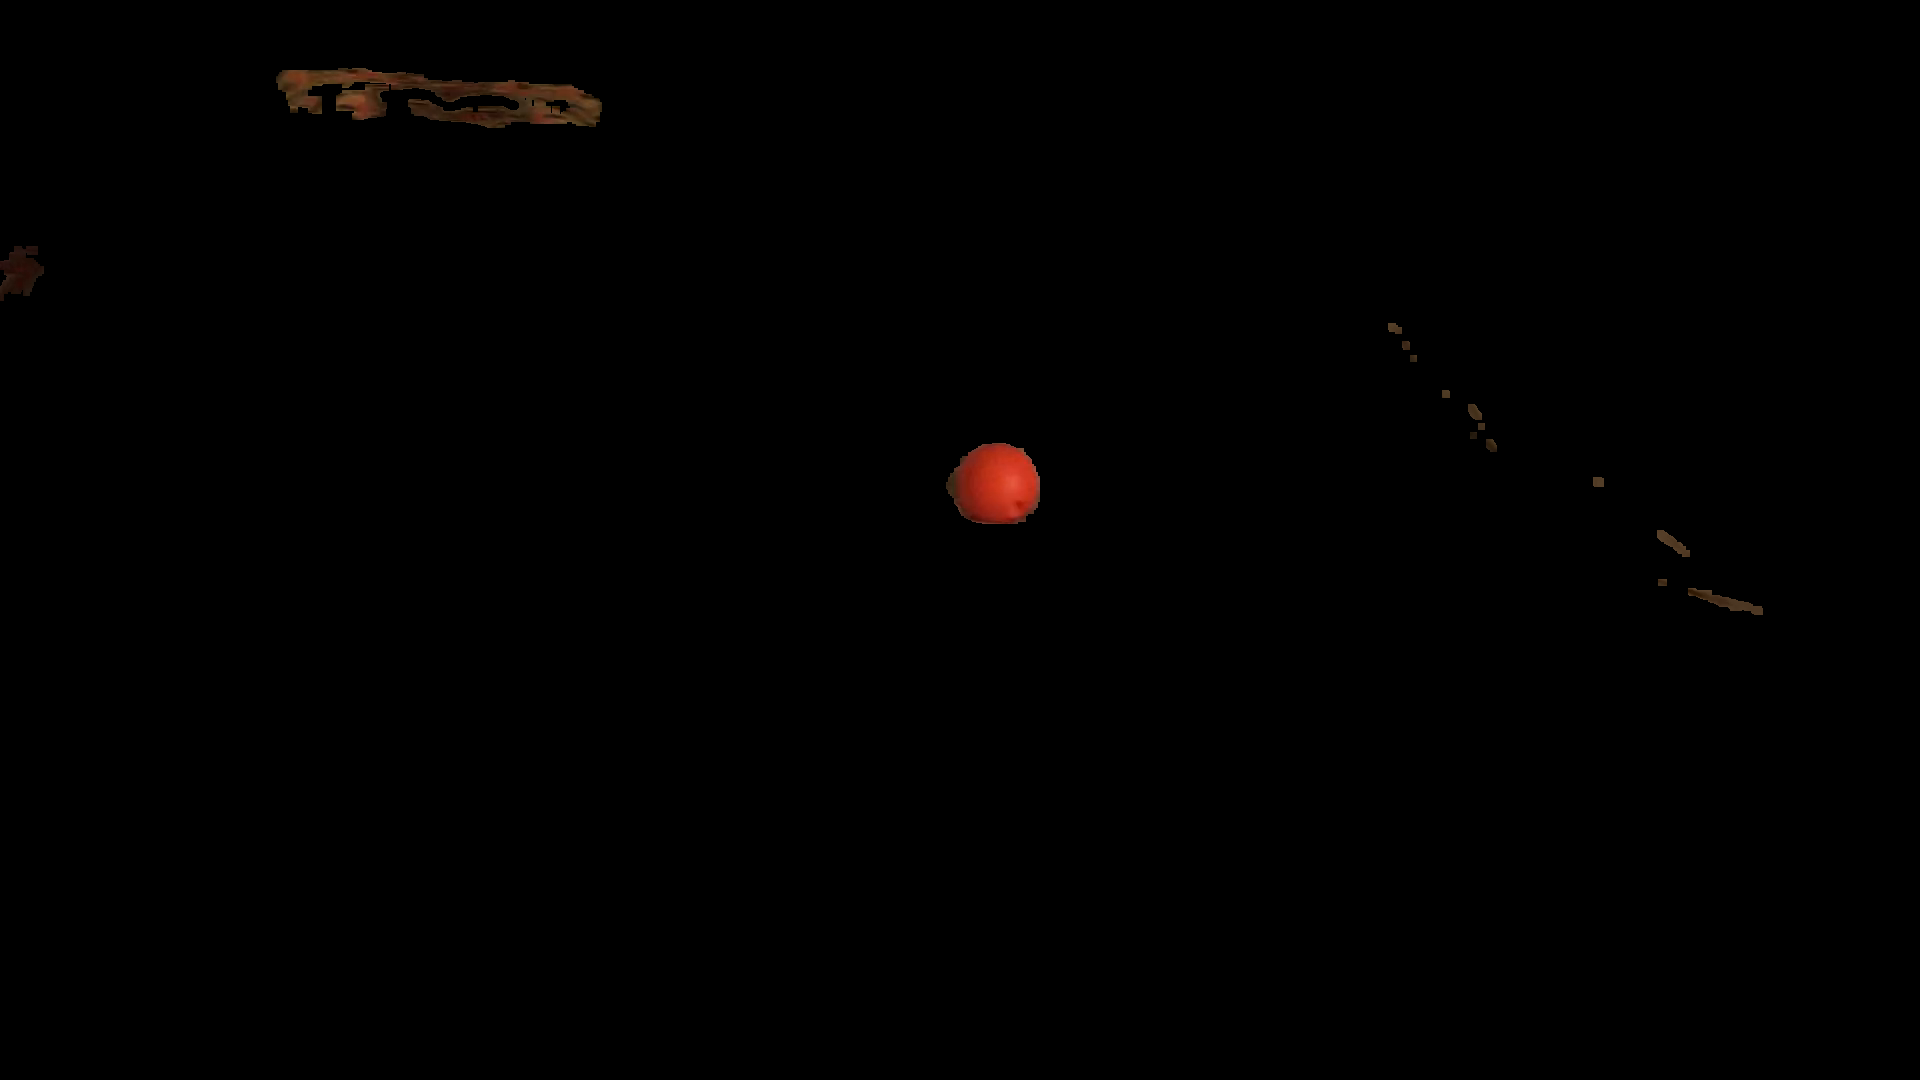Ball: (956, 440, 1042, 522)
